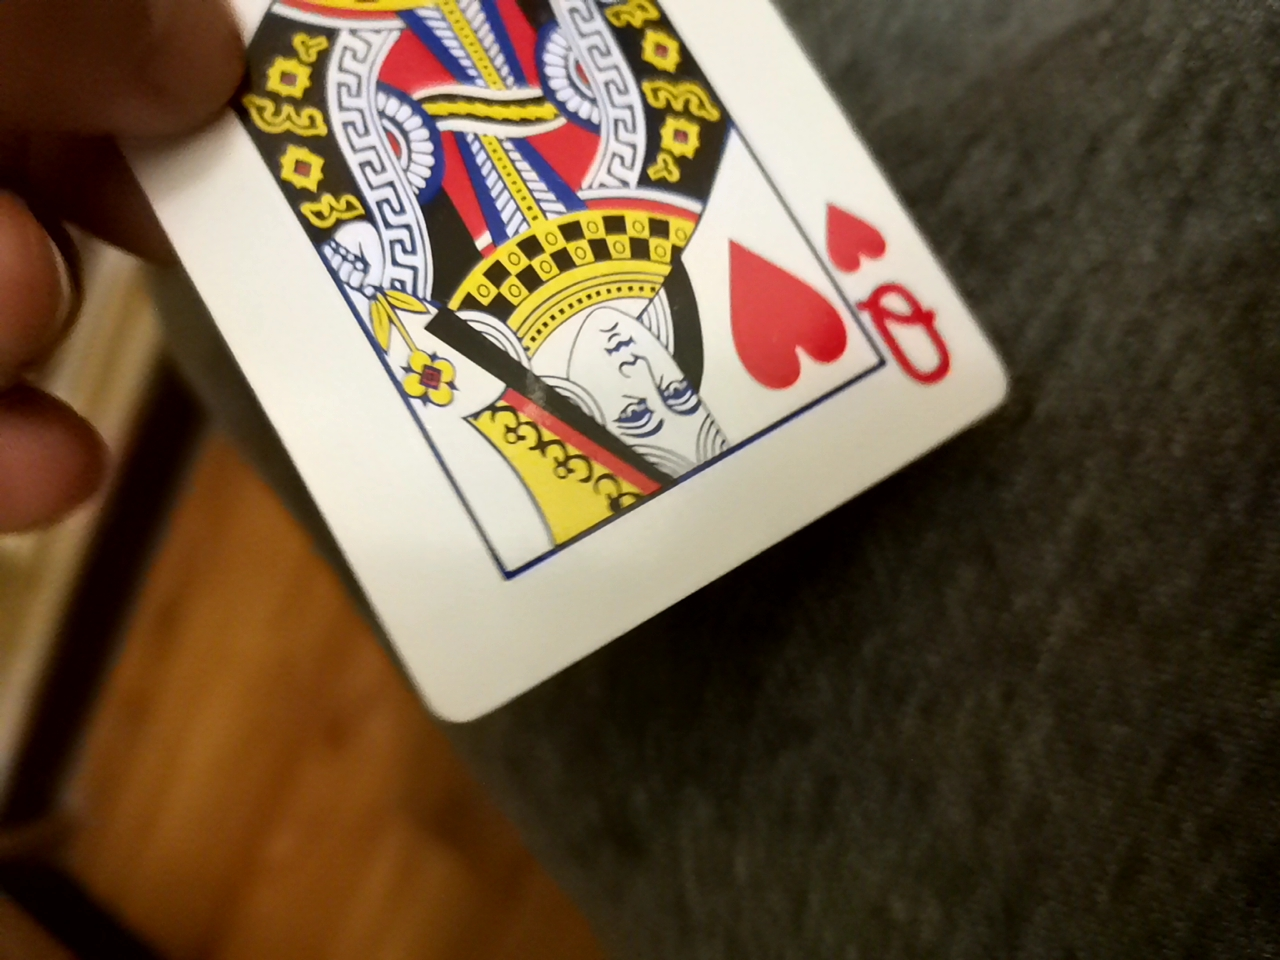hx q: (146, 2, 1004, 743)
